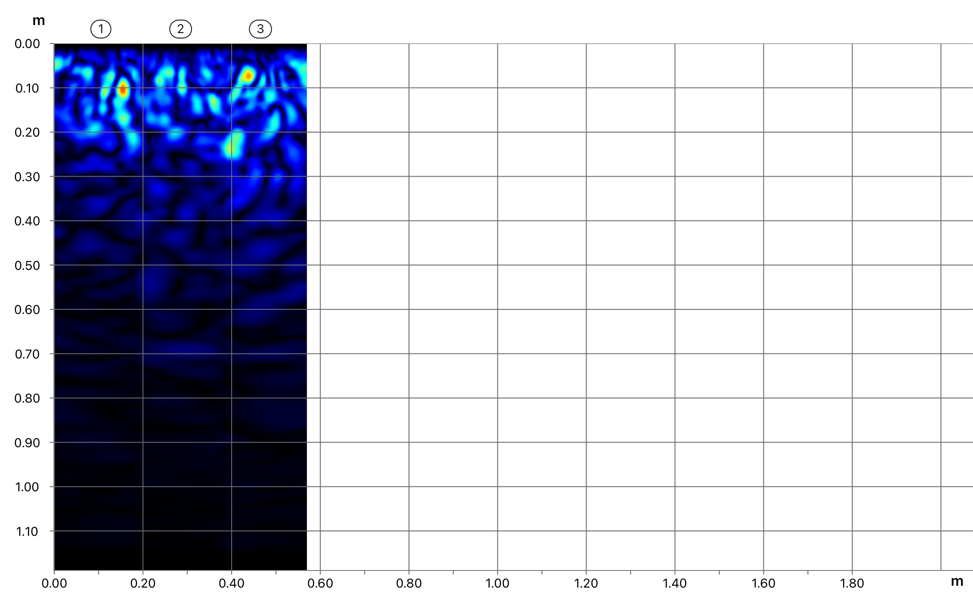crop: (1, 1, 307, 290)
